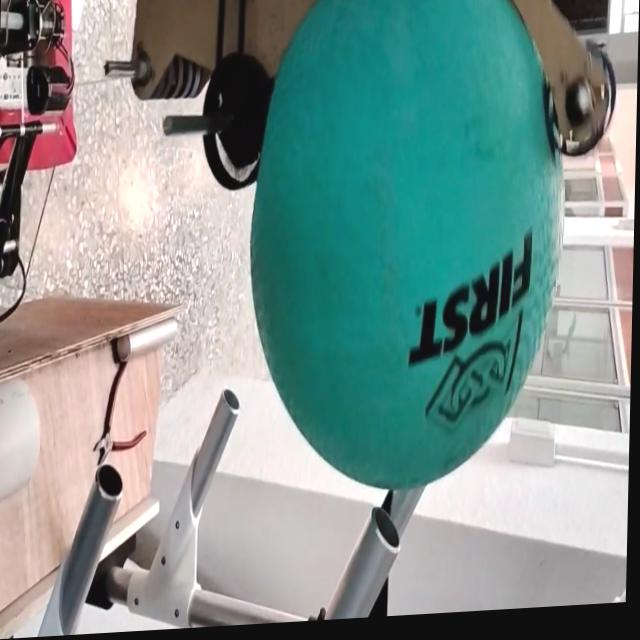ALGAE: (241, 0, 571, 499)
CORAL: (0, 359, 46, 506)
